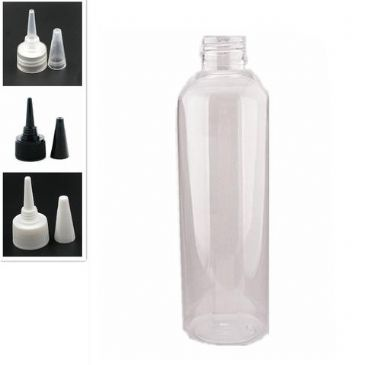emptybottle: (177, 36, 269, 344)
